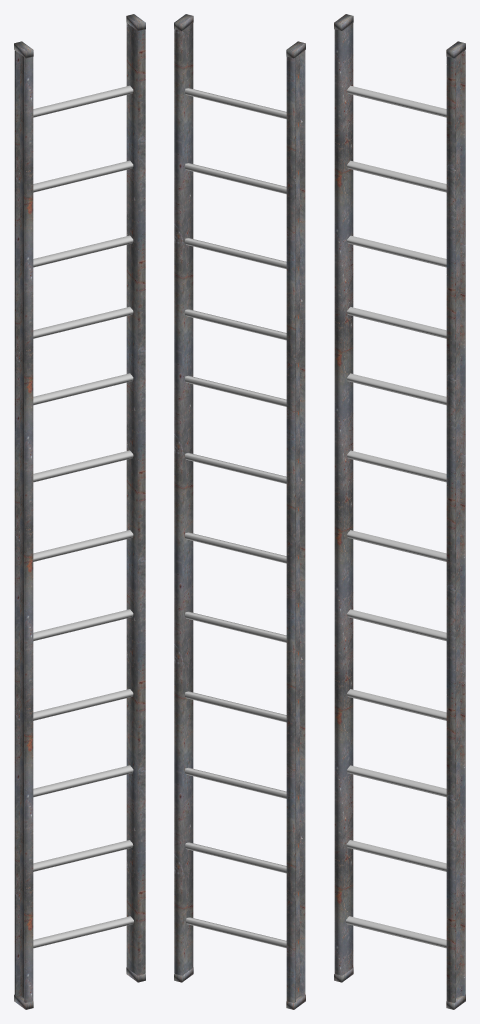
The model's file is ladder fbx.fbx.
The picture shows the model from 3 angles, left to right: view 1: azimuth 30°, elevation 25°; view 2: azimuth 150°, elevation 25°; view 3: azimuth 330°, elevation 25°; orthographic projection.
Visible parts, largest first — view 1: pCube1, pCube8, pCylinder1, pCylinder1_007, pCylinder1_002, pCylinder1_010, pCylinder1_006, pCylinder1_004, pCylinder1_009, pCylinder1_003, pCylinder1_011, pCylinder1_008 (+2 smaller); view 2: pCube1, pCube8, pCylinder1_011, pCylinder1_009, pCylinder1_005, pCylinder1_010, pCylinder1_008, pCylinder1_004, pCylinder1_003, pCylinder1_002, pCylinder1_006, pCylinder1_001 (+2 smaller); view 3: pCube8, pCube1, pCylinder1, pCylinder1_001, pCylinder1_007, pCylinder1_004, pCylinder1_010, pCylinder1_006, pCylinder1_002, pCylinder1_003, pCylinder1_011, pCylinder1_009 (+2 smaller).
Boxes of the visible parts, bbox=[...] form: pCube1: bbox=[14, 50, 33, 1002]; pCube8: bbox=[126, 23, 145, 975]; pCylinder1: bbox=[33, 916, 133, 948]; pCylinder1_007: bbox=[33, 373, 133, 405]; pCylinder1_002: bbox=[33, 765, 133, 797]; pCylinder1_010: bbox=[33, 160, 133, 192]; pCylinder1_006: bbox=[33, 450, 133, 482]; pCylinder1_004: bbox=[33, 609, 133, 641]; pCylinder1_009: bbox=[33, 235, 133, 267]; pCylinder1_003: bbox=[33, 689, 133, 720]; pCylinder1_011: bbox=[33, 85, 133, 117]; pCylinder1_008: bbox=[33, 306, 133, 338]; pCube1: bbox=[286, 50, 305, 1002]; pCube8: bbox=[174, 23, 193, 975]; pCylinder1_011: bbox=[185, 88, 286, 119]; pCylinder1_009: bbox=[185, 238, 286, 269]; pCylinder1_005: bbox=[185, 532, 286, 563]; pCylinder1_010: bbox=[185, 163, 286, 194]; pCylinder1_008: bbox=[185, 309, 286, 340]; pCylinder1_004: bbox=[185, 611, 286, 642]; pCylinder1_003: bbox=[185, 691, 286, 722]; pCylinder1_002: bbox=[185, 767, 286, 798]; pCylinder1_006: bbox=[185, 453, 286, 483]; pCylinder1_001: bbox=[185, 842, 286, 873]; pCube8: bbox=[446, 50, 465, 1002]; pCube1: bbox=[334, 23, 353, 975]; pCylinder1: bbox=[345, 916, 446, 948]; pCylinder1_001: bbox=[346, 840, 446, 871]; pCylinder1_007: bbox=[347, 373, 446, 405]; pCylinder1_004: bbox=[347, 609, 446, 641]; pCylinder1_010: bbox=[347, 160, 446, 192]; pCylinder1_006: bbox=[347, 450, 446, 482]; pCylinder1_002: bbox=[347, 765, 446, 797]; pCylinder1_003: bbox=[347, 689, 446, 720]; pCylinder1_011: bbox=[347, 85, 446, 117]; pCylinder1_009: bbox=[347, 235, 446, 267].
Size of the model in its own units: 19.14 by 146 by 3.25.
